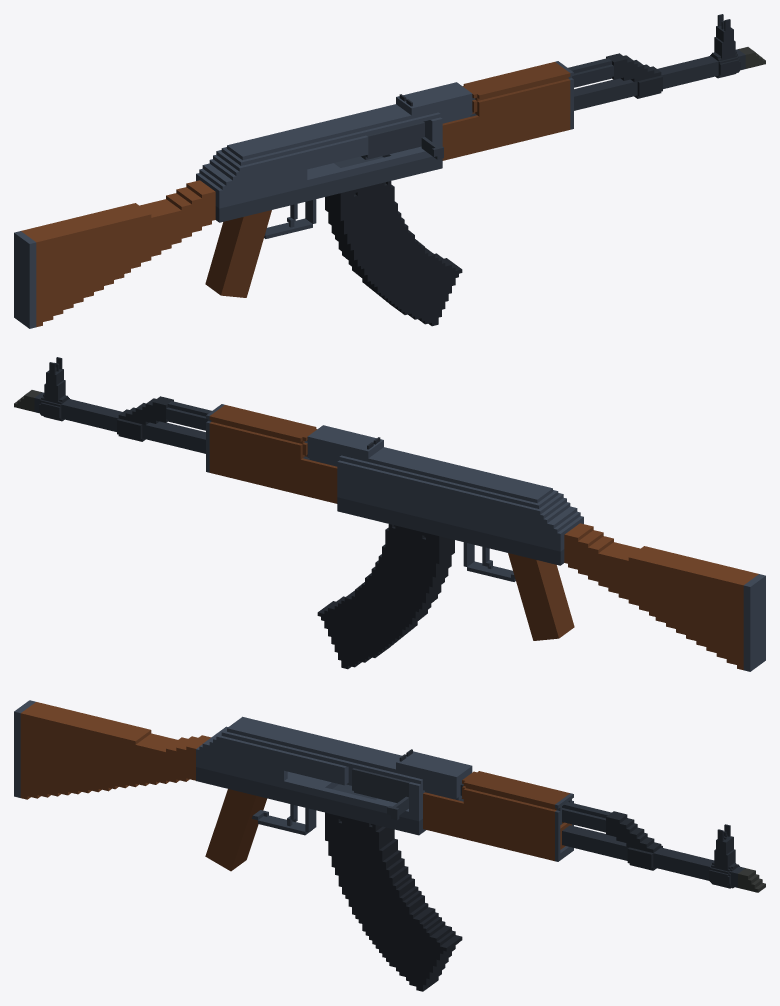
Rendered from rifle_ak.glb.
3 renders of one model, top to bottom at view 1: azimuth 30°, elevation 25°; view 2: azimuth 150°, elevation 25°; view 3: azimuth 330°, elevation 25°, orthographic.
Parts seen in each view (by area): view 1: stock:stock, receiver:ak-receiver, magazine:magazine, handguard:handguard, lower:lower, grip:grip, barrel:barrel, bolt-carrier:bolt-carrier, gas-block:gas-block, front-sight:front-sight, gas-cylinder:gas-cylinder; view 2: receiver:ak-receiver, stock:stock, magazine:magazine, handguard:handguard, lower:lower, grip:grip, barrel:barrel, gas-block:gas-block, front-sight:front-sight, gas-cylinder:gas-cylinder; view 3: receiver:ak-receiver, stock:stock, magazine:magazine, handguard:handguard, lower:lower, grip:grip, barrel:barrel, gas-block:gas-block, bolt-carrier:bolt-carrier, front-sight:front-sight, gas-cylinder:gas-cylinder, muzzle-device:ak-muzzle-device.
Part boxes in pixels (x1,y1,x2,y2): stock:stock: (14, 180, 215, 328); receiver:ak-receiver: (196, 82, 472, 208); magazine:magazine: (325, 181, 462, 326); handguard:handguard: (442, 61, 573, 160); lower:lower: (215, 156, 442, 238); grip:grip: (205, 210, 271, 297); barrel:barrel: (470, 49, 745, 116); bolt-carrier:bolt-carrier: (361, 121, 443, 159); gas-block:gas-block: (606, 53, 662, 98); front-sight:front-sight: (710, 14, 740, 78); gas-cylinder:gas-cylinder: (472, 58, 613, 112); receiver:ak-receiver: (307, 425, 583, 551); stock:stock: (564, 523, 765, 671); magazine:magazine: (317, 524, 454, 669); handguard:handguard: (206, 404, 337, 503); lower:lower: (337, 497, 564, 581); grip:grip: (508, 553, 574, 640); barrel:barrel: (34, 392, 309, 459); gas-block:gas-block: (117, 396, 173, 441); front-sight:front-sight: (39, 357, 69, 421); gas-cylinder:gas-cylinder: (166, 401, 307, 455); receiver:ak-receiver: (196, 716, 472, 821); stock:stock: (14, 700, 210, 799); magazine:magazine: (325, 812, 462, 991); handguard:handguard: (423, 771, 573, 861); lower:lower: (196, 767, 425, 835); grip:grip: (205, 789, 267, 871); barrel:barrel: (459, 798, 745, 887); gas-block:gas-block: (606, 811, 662, 870); bolt-carrier:bolt-carrier: (352, 768, 410, 820); front-sight:front-sight: (709, 824, 739, 888); gas-cylinder:gas-cylinder: (460, 784, 611, 832); muzzle-device:ak-muzzle-device: (738, 868, 765, 892).
Bounding box in the file's own units: 0.876 × 0.26 × 0.072.
